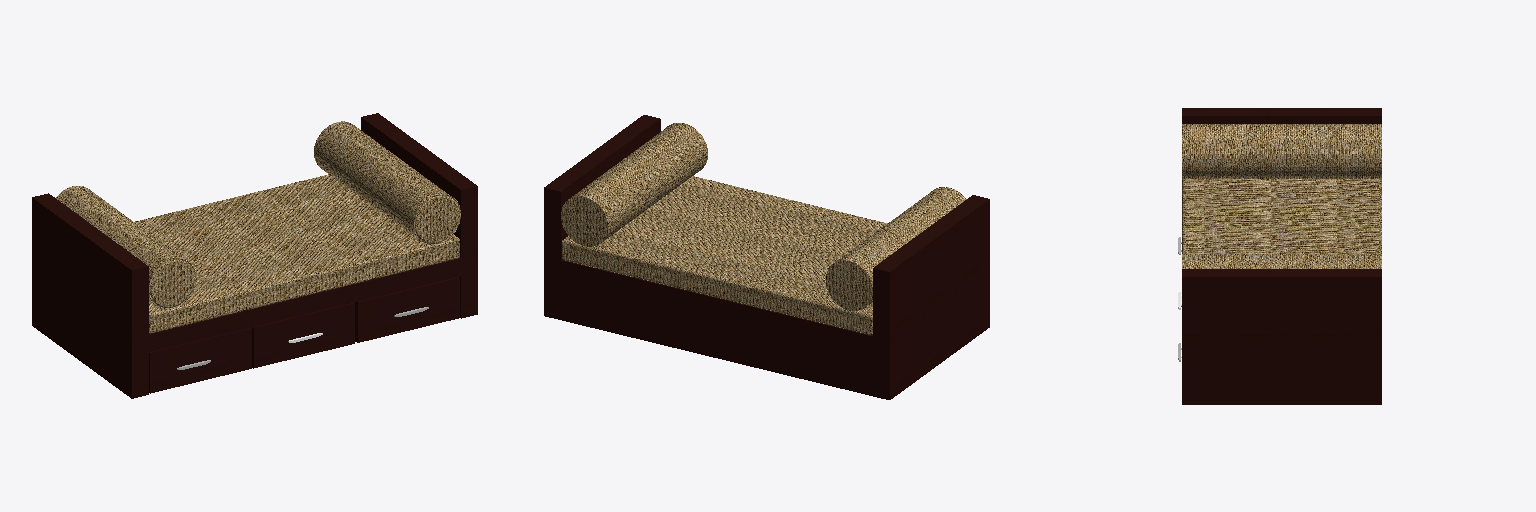
The picture shows the model from 3 angles: view 1: azimuth 30°, elevation 25°; view 2: azimuth 150°, elevation 25°; view 3: azimuth 270°, elevation 25°; orthographic projection.
Visible parts, largest first — view 1: Mesh12 Mesh01_1 skp9229_1 Model, Mesh18 Mesh07_1 skp9229_1 Model, Mesh16 Mesh05_1 skp9229_1 Model, Mesh17 Mesh06_1 skp9229_1 Model, Mesh15 Mesh04_1 skp9229_1 Model, Mesh14 Mesh03_1 skp9229_1 Model, Mesh13 Mesh02_1 skp9229_1 Model; view 2: Mesh12 Mesh01_1 skp9229_1 Model, Mesh1 Box002_1_1 skp9229_1 Model, Mesh18 Mesh07_1 skp9229_1 Model, Mesh17 Mesh06_1 skp9229_1 Model, Mesh16 Mesh05_1 skp9229_1 Model; view 3: Mesh16 Mesh05_1 skp9229_1 Model, Mesh12 Mesh01_1 skp9229_1 Model, Mesh17 Mesh06_1 skp9229_1 Model, Mesh18 Mesh07_1 skp9229_1 Model.
Boxes of the visible parts, x1=… form: Mesh12 Mesh01_1 skp9229_1 Model: x1=32, y1=174, x2=460, y2=398; Mesh18 Mesh07_1 skp9229_1 Model: x1=314, y1=121, x2=460, y2=244; Mesh16 Mesh05_1 skp9229_1 Model: x1=361, y1=113, x2=477, y2=318; Mesh17 Mesh06_1 skp9229_1 Model: x1=56, y1=186, x2=196, y2=309; Mesh15 Mesh04_1 skp9229_1 Model: x1=355, y1=277, x2=459, y2=342; Mesh14 Mesh03_1 skp9229_1 Model: x1=252, y1=303, x2=354, y2=368; Mesh13 Mesh02_1 skp9229_1 Model: x1=149, y1=328, x2=251, y2=393; Mesh12 Mesh01_1 skp9229_1 Model: x1=561, y1=176, x2=989, y2=399; Mesh1 Box002_1_1 skp9229_1 Model: x1=561, y1=278, x2=872, y2=395; Mesh18 Mesh07_1 skp9229_1 Model: x1=561, y1=123, x2=707, y2=246; Mesh17 Mesh06_1 skp9229_1 Model: x1=826, y1=187, x2=966, y2=310; Mesh16 Mesh05_1 skp9229_1 Model: x1=544, y1=115, x2=660, y2=319; Mesh16 Mesh05_1 skp9229_1 Model: x1=1182, y1=269, x2=1381, y2=404; Mesh12 Mesh01_1 skp9229_1 Model: x1=1182, y1=108, x2=1381, y2=253; Mesh17 Mesh06_1 skp9229_1 Model: x1=1182, y1=124, x2=1381, y2=178; Mesh18 Mesh07_1 skp9229_1 Model: x1=1182, y1=254, x2=1381, y2=268.
Size of the model in its own units: 7199 by 2584 by 3680.
Materials: 4 (2 with a texture image).